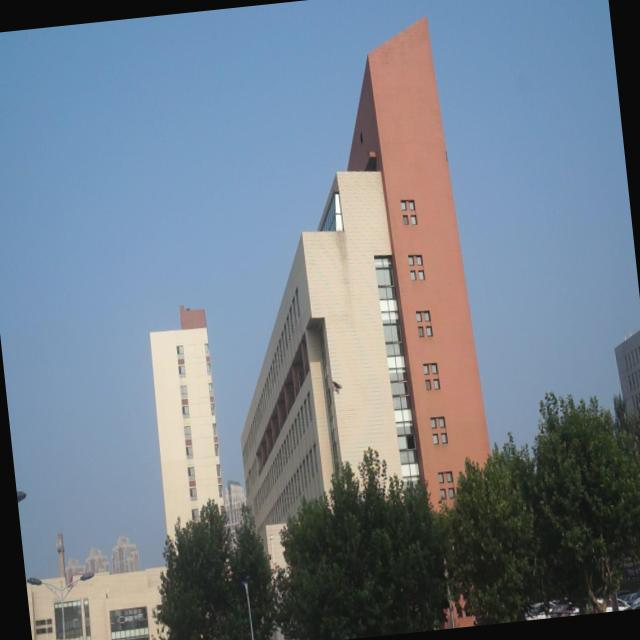drone: (330, 374, 344, 396)
